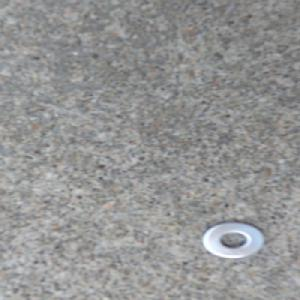Washer: (200, 220, 267, 259)
